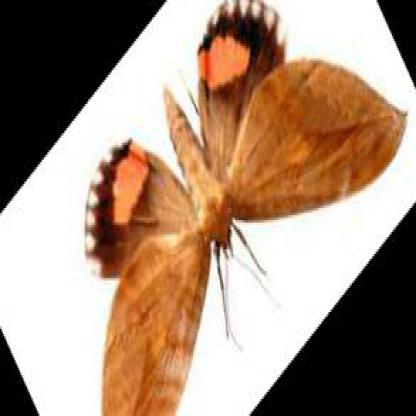fruit sucking moth: (85, 0, 407, 411)
